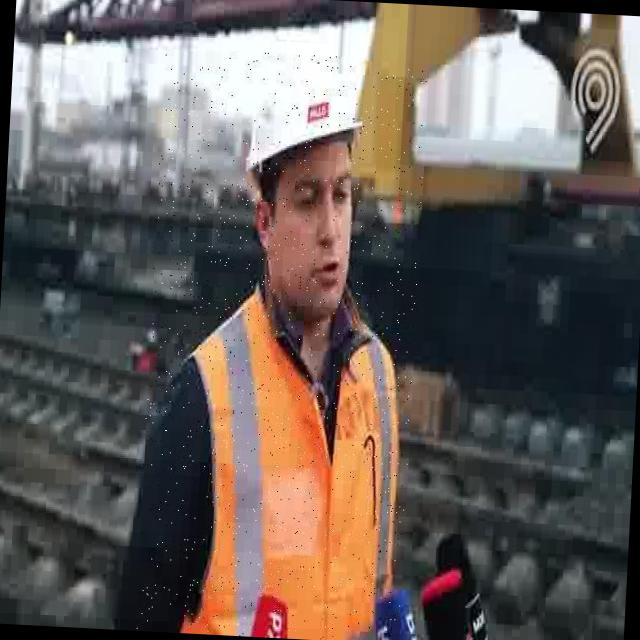hard_hat: (243, 52, 367, 184)
safety_vest: (164, 270, 413, 640)
vehicle: (134, 54, 428, 640)
